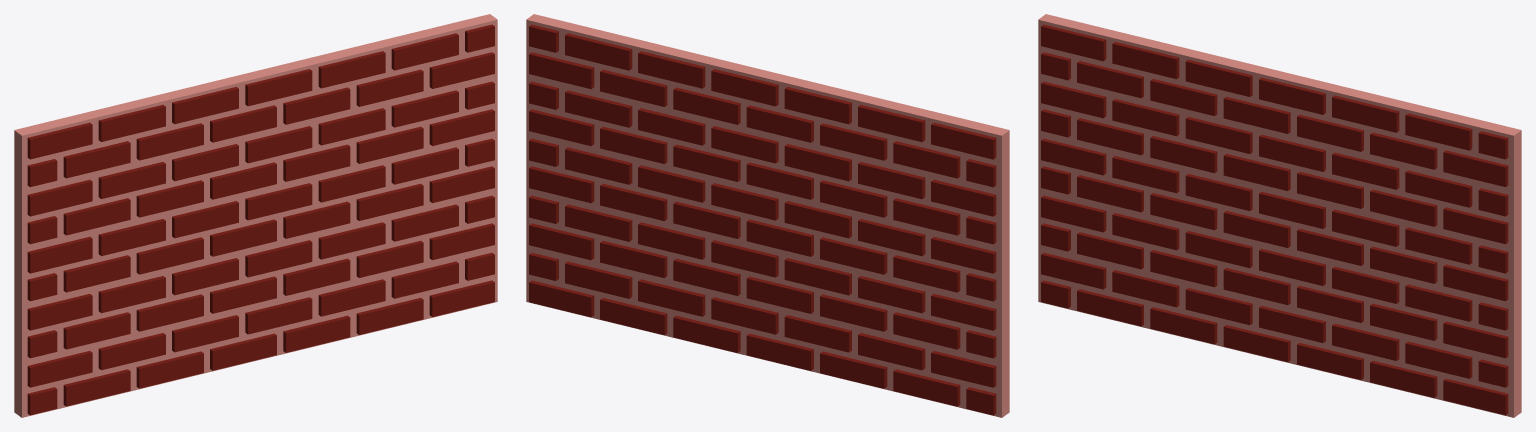
Rendered from bricks.glb.
3 renders of one model, left to right at view 1: azimuth 30°, elevation 25°; view 2: azimuth 150°, elevation 25°; view 3: azimuth 330°, elevation 25°, orthographic.
Parts seen in each view (by area): view 1: Cube, Plane; view 2: Cube, Plane; view 3: Cube, Plane.
Boxes of the visible parts, bbox=[...] form: Cube: bbox=[27, 24, 494, 415]; Plane: bbox=[14, 14, 497, 417]; Cube: bbox=[529, 24, 996, 415]; Plane: bbox=[526, 14, 1009, 417]; Cube: bbox=[1041, 24, 1508, 415]; Plane: bbox=[1038, 14, 1521, 417].
Size of the model in its own units: 16.9 by 9.58 by 0.8192.
Materials: 1 (1 with a texture image).
